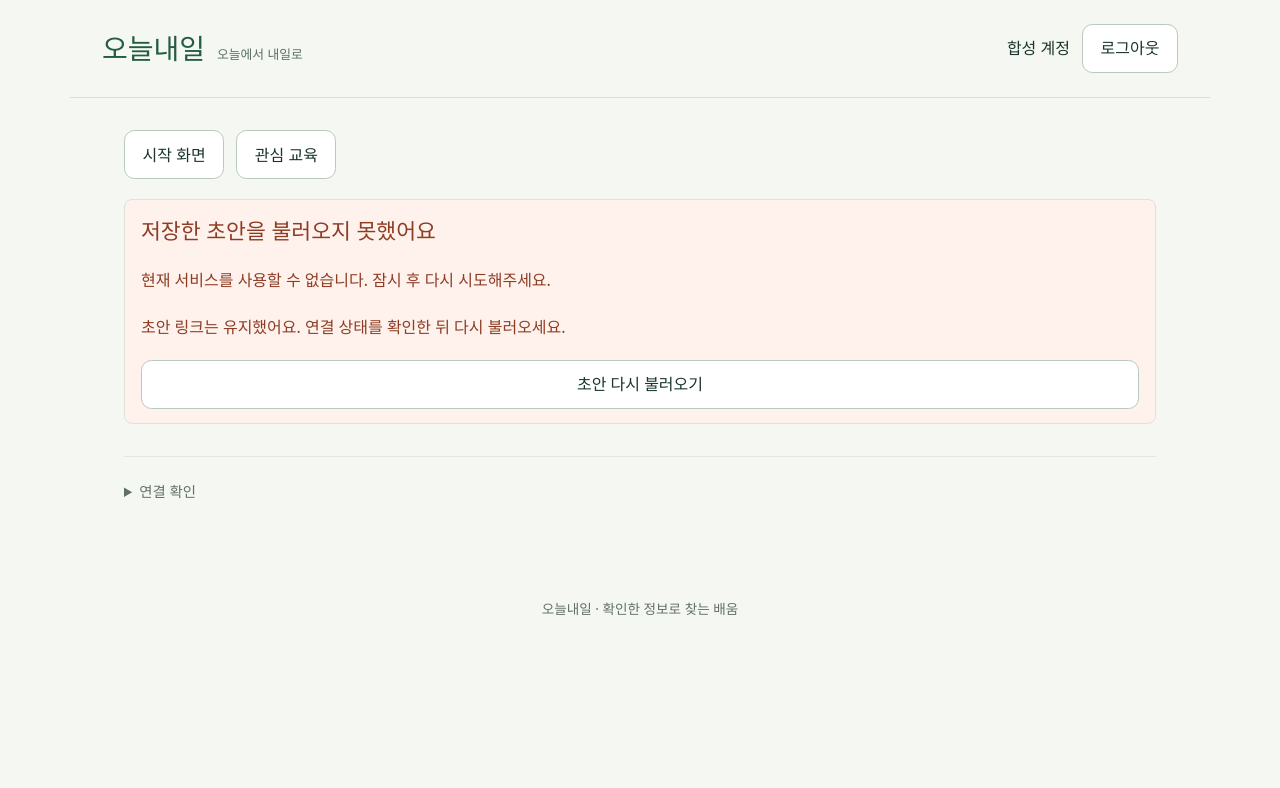
초안 생성·다시 불러오기 › 불러오기 실패 후 같은 초안을 다시 조회하고 URL과 저장 ID를 유지한다
expect the heading "저장한 초안을 불러오지 못했어요" is shown: met, box top-left (141, 216), bottom-right (436, 245)
Step 1. Click the button "초안 다시 불러오기" → (640, 384), box top-left (141, 360), bottom-right (1139, 409)
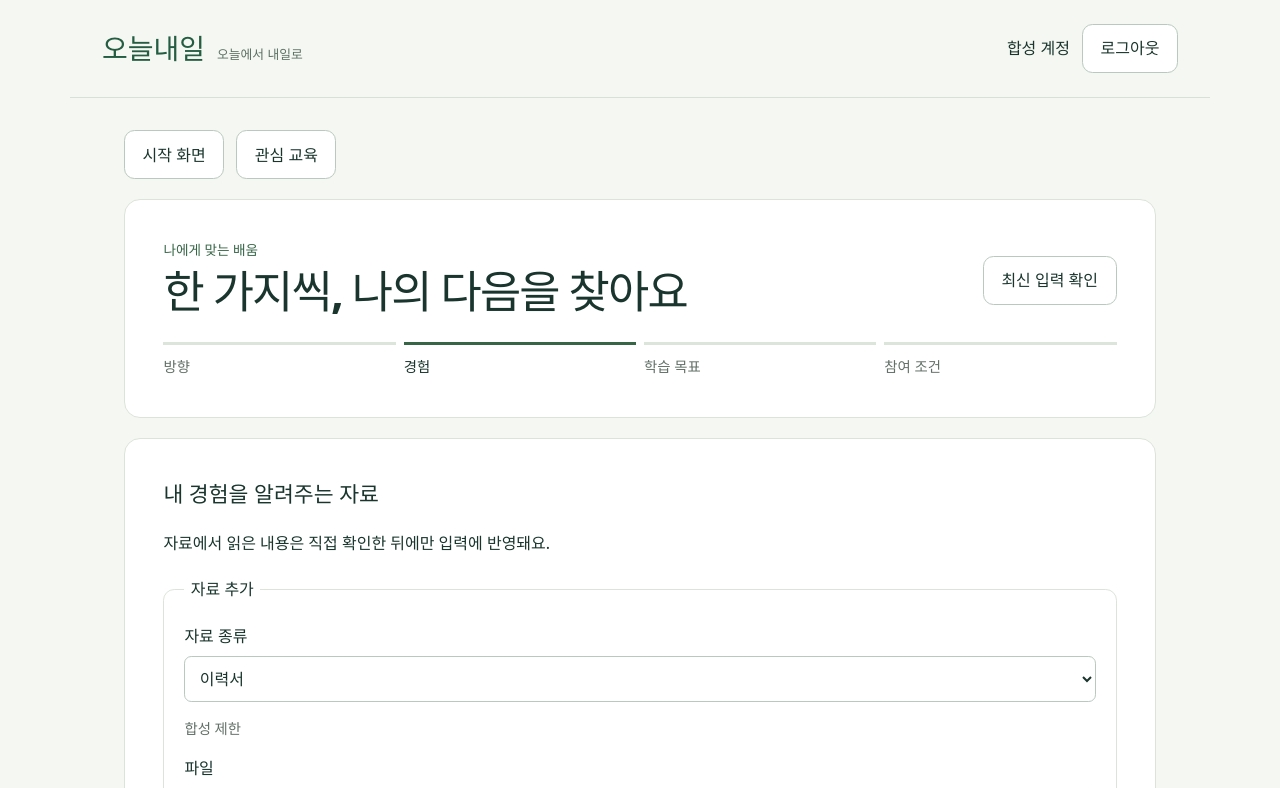
expect the element named "학습 입력" is shown: met, box top-left (124, 199), bottom-right (1156, 418)
expect the message is gone: met
